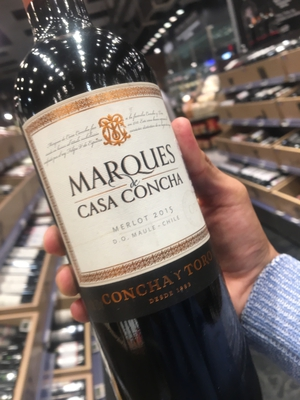marques de casa concha merlot: (16, 8, 231, 371)
